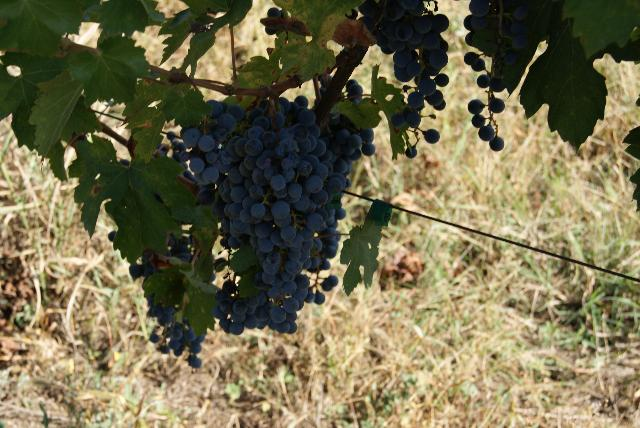grapes: (190, 105, 374, 334), (359, 0, 450, 130), (464, 0, 530, 151)
